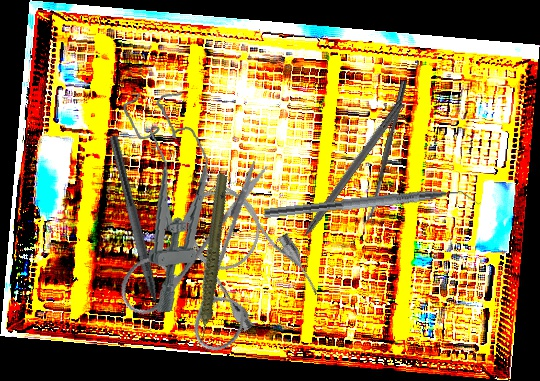Cannula: (167, 167, 325, 340)
Chopper: (96, 135, 169, 333), (263, 181, 482, 234)
Handpiece: (155, 172, 264, 348)
Hook Surgical: (285, 99, 405, 258)
Iris Scissors: (95, 158, 313, 372)
Speculum: (120, 87, 222, 315)
Surgical Spoon: (364, 79, 408, 226)
